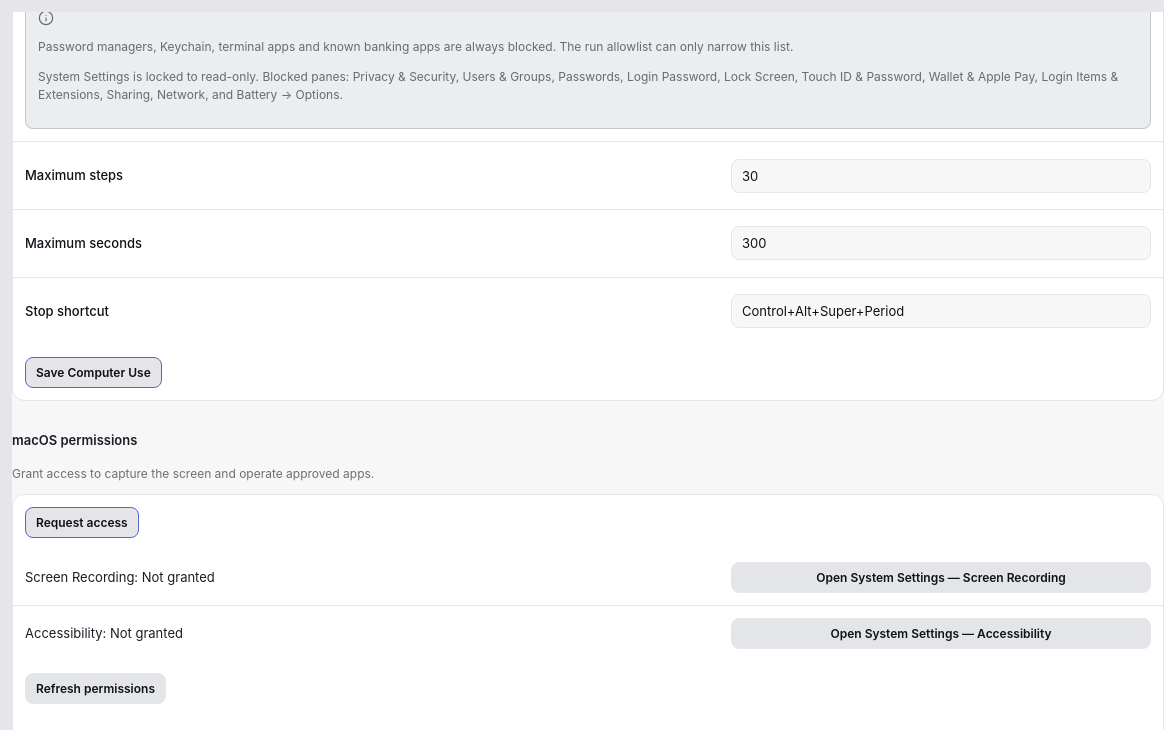
Scenario: computer use › requests access and opens only missing panes: {"screen":true,"accessibility":true}
The width and height of the screenshot is (1164, 730).
(page scrolled)
Click the button "Request access" at point(82, 523), box [25, 507, 139, 538]
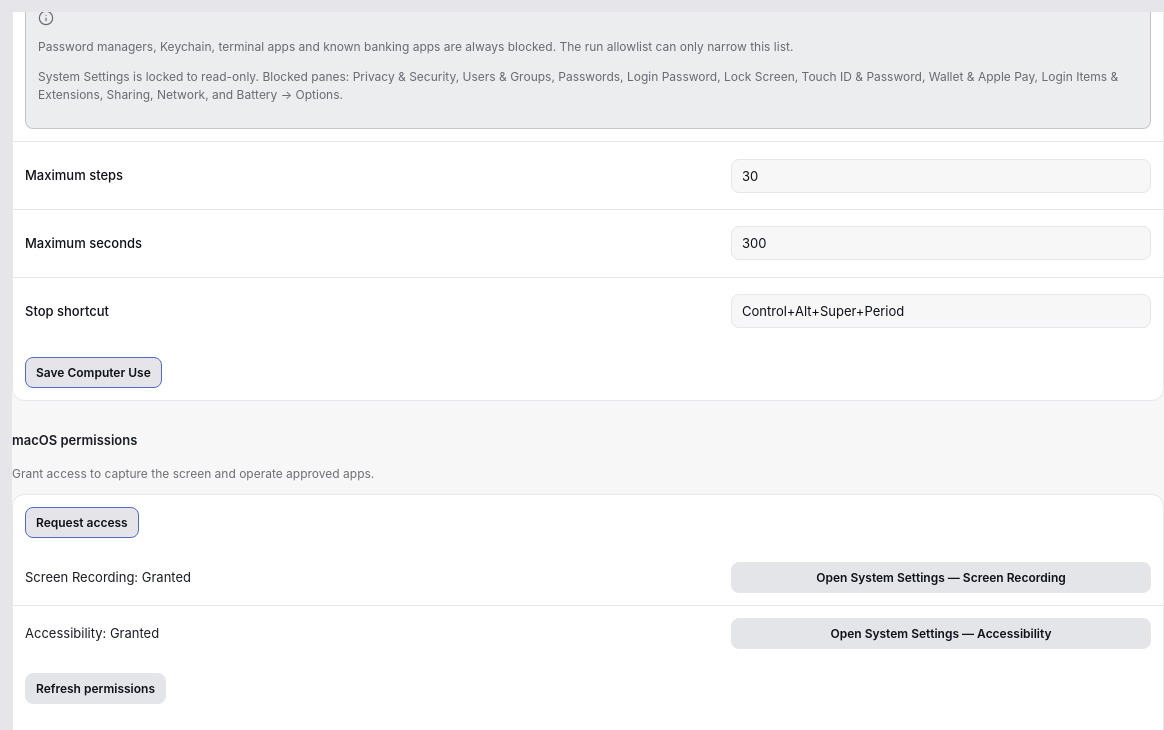
Now the text "Screen Recording: Granted" is shown, box [25, 569, 191, 585]
